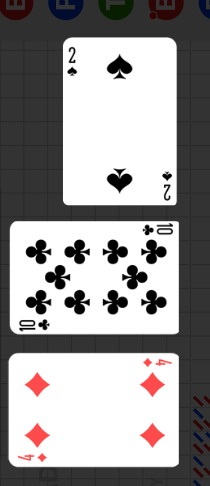10C: (18, 316, 52, 332), (140, 223, 175, 238)
2S: (66, 45, 80, 79)
